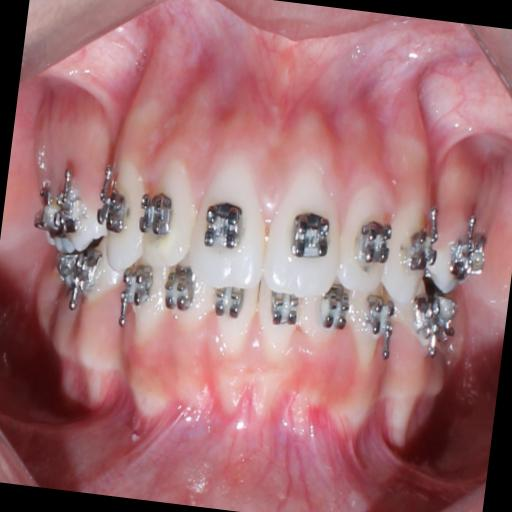correct_brace: (196, 196, 248, 257), (286, 205, 335, 268), (352, 213, 396, 271), (135, 184, 177, 244), (404, 222, 442, 278), (98, 188, 130, 234)
incorrect_brace: (132, 148, 200, 274), (334, 185, 402, 301)
